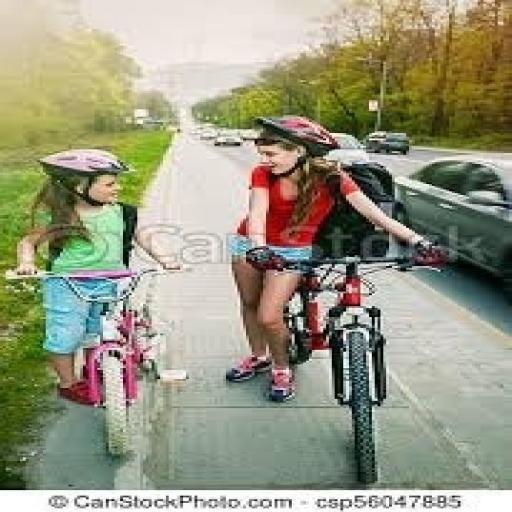cycling: (223, 113, 452, 404), (11, 146, 186, 404)
